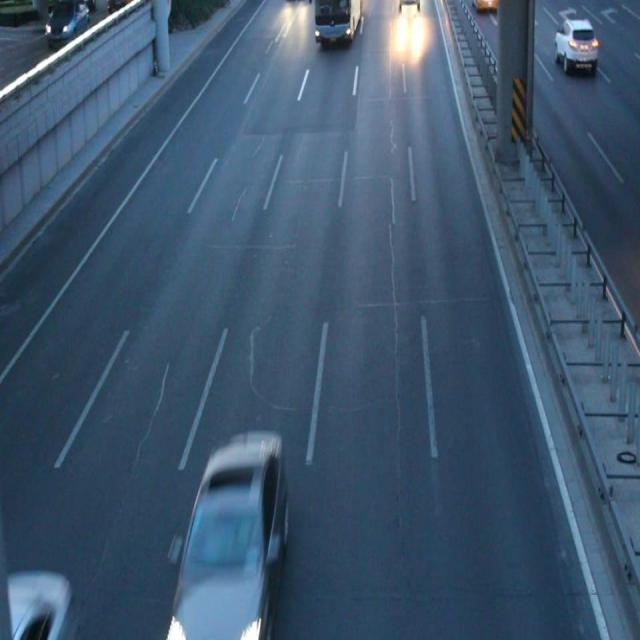car: (173, 430, 282, 640), (554, 19, 597, 73), (398, 1, 419, 18), (472, 1, 495, 13)
van: (313, 1, 359, 43)
